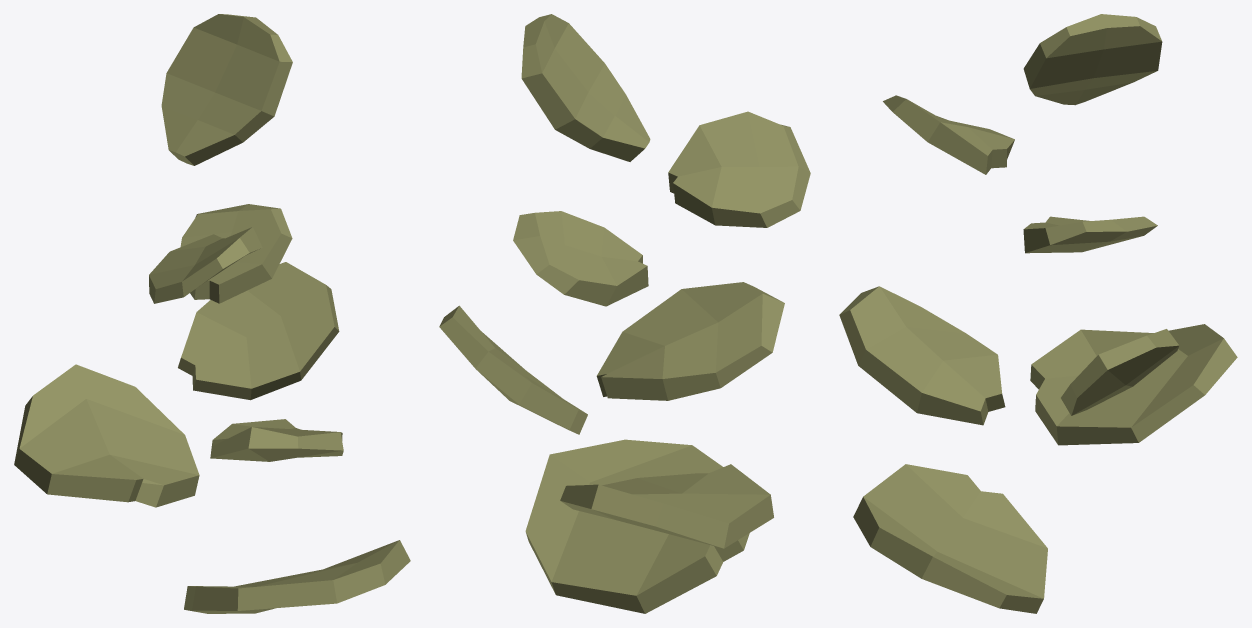
The model's file is HerbLeaves.fbx.
3 renders of one model, left to right at view 1: azimuth 30°, elevation 25°; view 2: azimuth 150°, elevation 25°; view 3: azimuth 270°, elevation 25°, orthographic. The views are drawn at different scales.
Parts seen in each view (by area): view 1: herb_single.007, herb_single.005, herb_single.002, herb_single.008, herb_single.004, herb_single.006, herb_single.003; view 2: herb_single.008, herb_single.006, herb_single.003, herb_single.002, herb_single.007, herb_single.004, herb_single.005; view 3: herb_single.008, herb_single.006, herb_single.007, herb_single.002, herb_single.005, herb_single.003, herb_single.004.
Part boxes in pixels (bbox=[...]): herb_single.007: bbox=[14, 364, 199, 507]; herb_single.005: bbox=[178, 262, 339, 400]; herb_single.002: bbox=[161, 14, 292, 165]; herb_single.008: bbox=[184, 540, 410, 613]; herb_single.004: bbox=[180, 204, 292, 303]; herb_single.006: bbox=[210, 419, 343, 461]; herb_single.003: bbox=[149, 227, 262, 303]; herb_single.008: bbox=[525, 439, 749, 613]; herb_single.006: bbox=[596, 282, 784, 400]; herb_single.003: bbox=[668, 111, 810, 227]; herb_single.002: bbox=[521, 14, 650, 161]; herb_single.007: bbox=[560, 464, 773, 548]; herb_single.004: bbox=[513, 211, 648, 306]; herb_single.005: bbox=[439, 305, 587, 434]; herb_single.008: bbox=[853, 464, 1047, 613]; herb_single.006: bbox=[839, 286, 1005, 425]; herb_single.007: bbox=[1030, 324, 1237, 445]; herb_single.002: bbox=[1023, 14, 1162, 105]; herb_single.005: bbox=[1061, 329, 1179, 415]; herb_single.003: bbox=[883, 95, 1014, 174]; herb_single.004: bbox=[1023, 216, 1157, 253].
Size of the model in its own units: 38.76 by 70.49 by 43.16.
